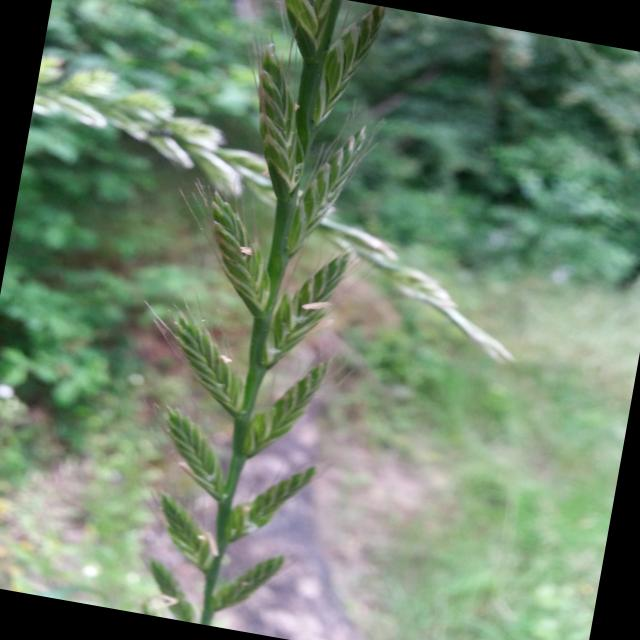Lolium: (85, 0, 572, 640), (2, 58, 548, 369)
